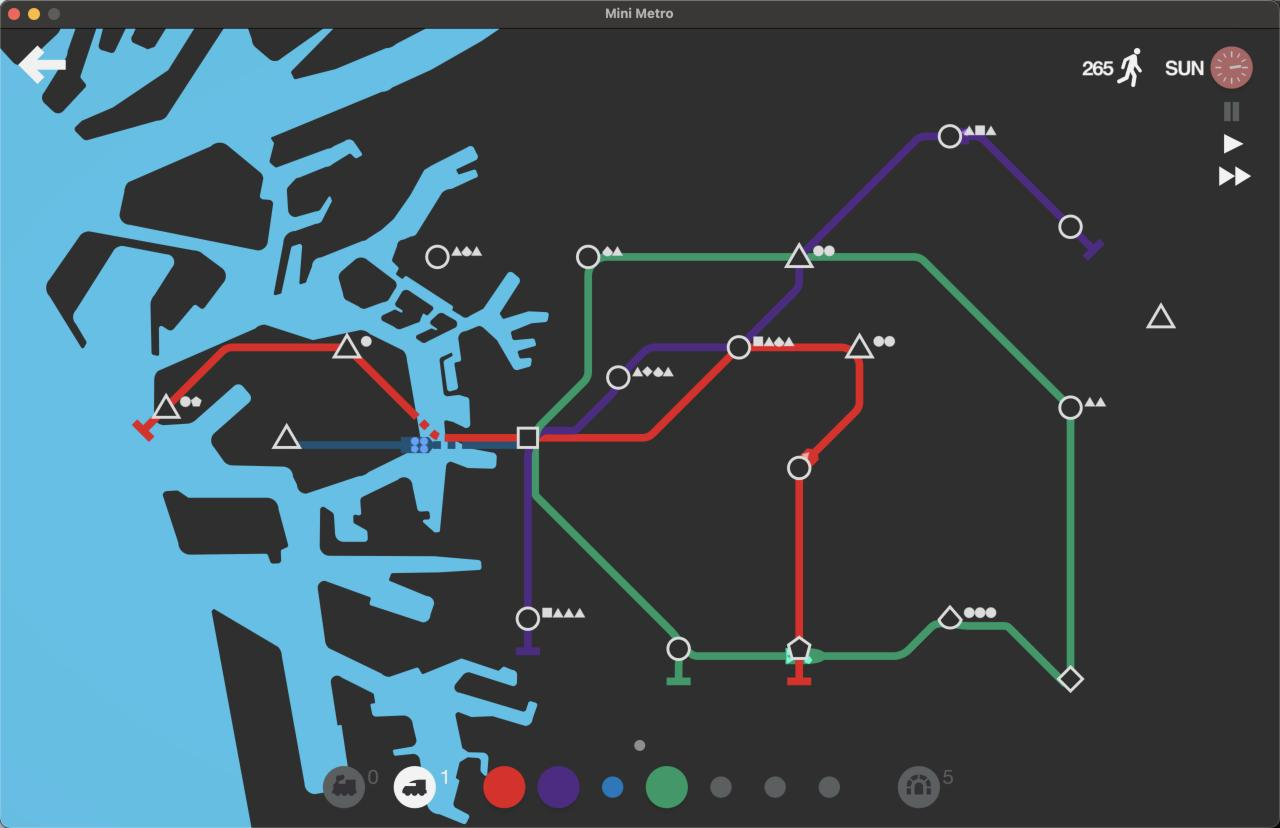CIRCLE: (515, 606, 541, 633), (937, 123, 963, 149), (666, 636, 692, 662), (1058, 394, 1083, 421), (787, 454, 812, 481), (575, 244, 600, 270), (425, 244, 450, 270), (726, 335, 752, 360), (1058, 213, 1083, 239), (606, 365, 631, 390)
GEM: (1057, 665, 1085, 694)
PENTAGON: (785, 636, 814, 665)
SQUARE: (516, 426, 540, 449)
TRIANGLE: (331, 332, 364, 360), (151, 392, 181, 422), (844, 332, 874, 360), (271, 422, 301, 450), (784, 242, 815, 269), (1146, 302, 1176, 329)
WEDGE: (937, 604, 963, 629)
